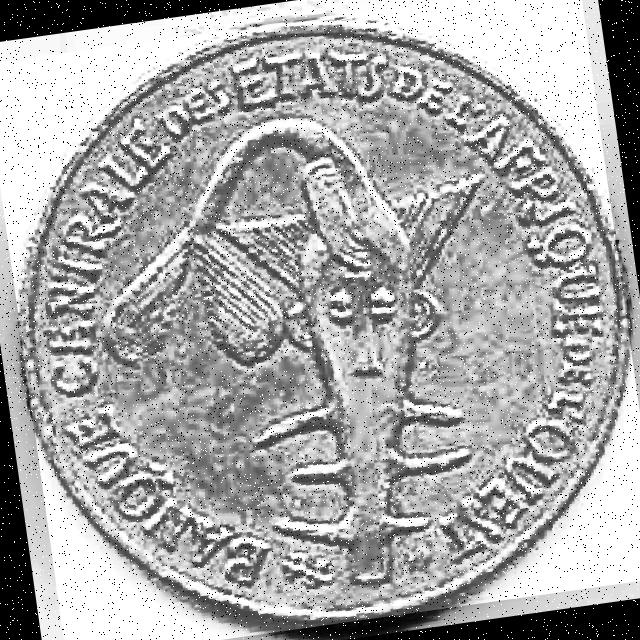fukk: (20, 20, 629, 623)
